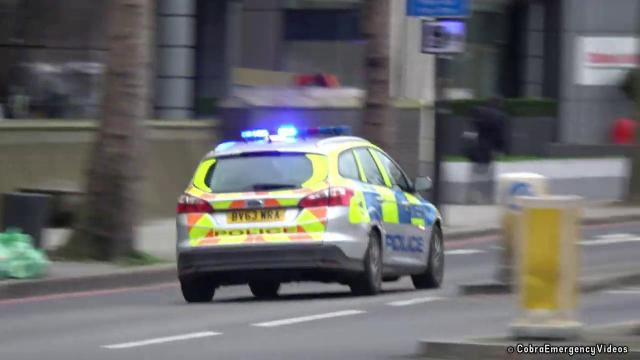police_car: (174, 124, 446, 293)
